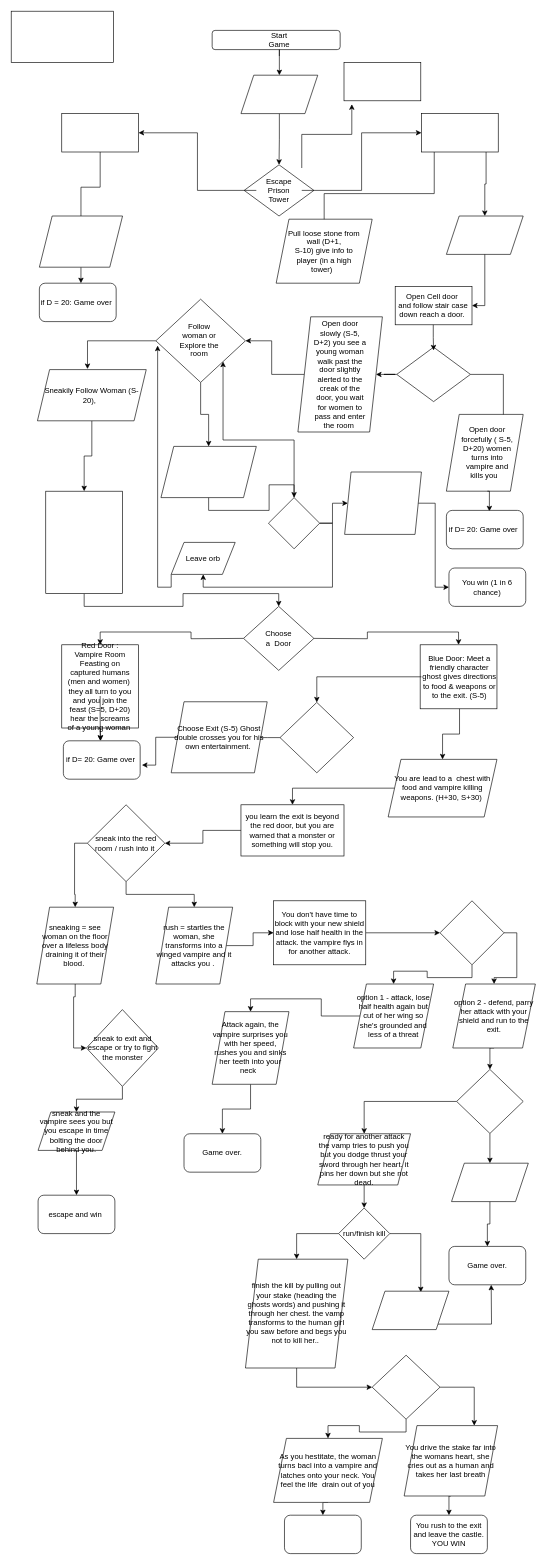
Image size: 547x1565. Some labels were removed from this diagram. Here are the shapes that lost their labels. From the top down, the box of each, then its label:
(11, 11, 114, 62): Player Name: Health = 70/100 Stamina = 60/100 Detection = 0/20
(240, 75, 318, 114): Enter Name
(343, 62, 421, 101): Option 3 Go back to sleep = (S+20) (loop 1 time only)
(61, 113, 139, 152): Option 1 force cell door (S-10)
(421, 113, 498, 152): Option 2 Search cell for useful objects (S-5)
(39, 215, 123, 267): Hear monster call, (D+5) (something heard you...)
(446, 215, 523, 254): Find a nail to pick lock (S-5)
(396, 347, 470, 402): Open door slowly/forcefully
(160, 446, 256, 498): Explore Room (S-5) Find Magic Black Orb
(344, 471, 421, 534): Take Orb and gain chance to teleport to escape (H = 1, D + 10)
(45, 491, 123, 594): The woman turns a corner but when you reach it she is nowhere to be seen.
(268, 497, 320, 549): take orb/ leave orb
(279, 702, 354, 773): Food &weapons / Exit
(439, 900, 504, 965): defend or attack the creature
(456, 1069, 523, 1133): go for exit / ready yourself for another attack
(451, 1163, 528, 1202): go for the exit, the vampire attacks you and you die.
(372, 1291, 449, 1330): you see her flailing on the ground and use this as you chance to escape
(372, 1355, 440, 1419): hesitate / finish kill
(284, 1515, 361, 1554): Game over
